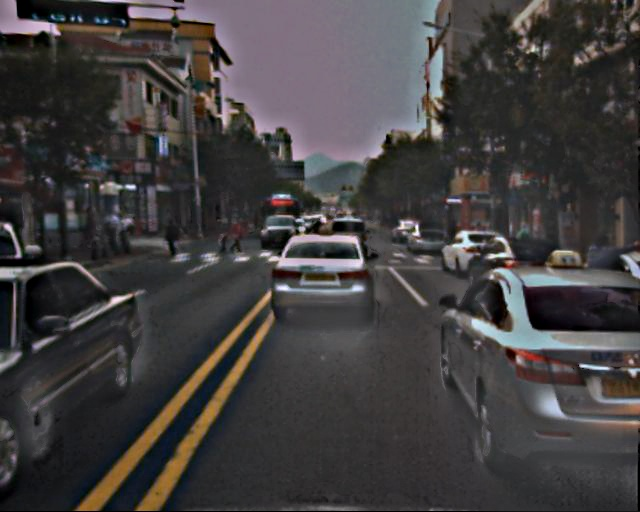person: (580, 236, 622, 338), (86, 204, 134, 253), (168, 218, 184, 258), (227, 219, 243, 257), (217, 229, 227, 254)
